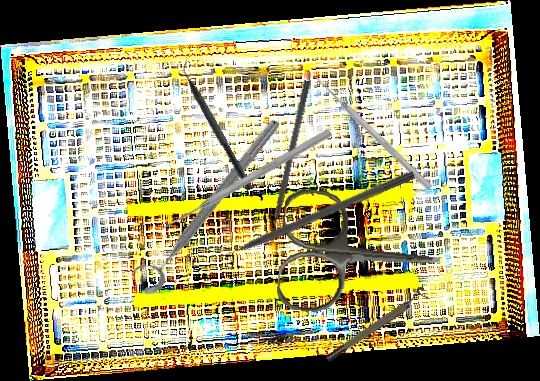Chopper: (174, 56, 262, 191)
Fixation Ring: (124, 107, 287, 300), (321, 285, 431, 364)
Iris Scissors: (275, 187, 446, 323)
Pusher: (207, 168, 416, 266), (159, 126, 334, 234), (311, 72, 434, 192), (264, 79, 312, 246)
